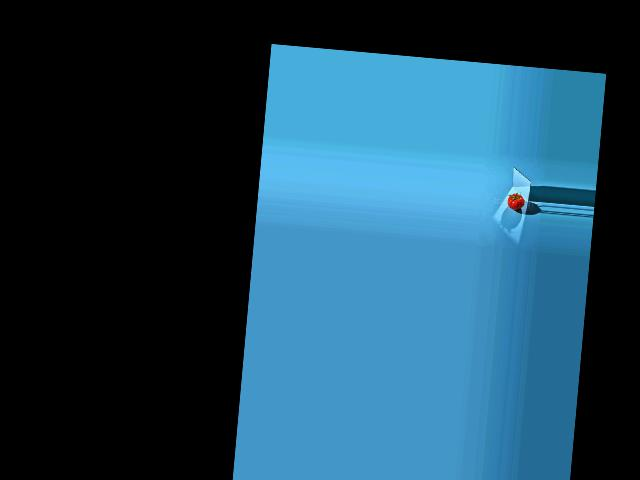tomato: (507, 193, 525, 210)
